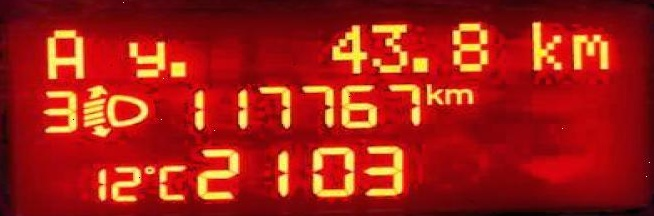-: (408, 51, 433, 75), (166, 56, 187, 77)
0: (306, 142, 355, 200)
1: (270, 144, 290, 204), (188, 85, 209, 137), (233, 81, 249, 132), (92, 163, 106, 204)
2: (194, 145, 241, 204), (109, 161, 139, 201)
3: (362, 140, 407, 196), (368, 19, 407, 73), (37, 85, 76, 136)
4: (327, 19, 367, 74)
6: (338, 81, 376, 131)
7: (380, 80, 422, 129), (255, 82, 292, 131), (298, 80, 333, 127)
8: (449, 19, 489, 74)
X: (42, 24, 91, 81), (529, 13, 566, 76), (567, 27, 610, 72), (124, 34, 166, 80), (156, 161, 187, 201), (442, 85, 477, 106), (425, 79, 443, 106)
